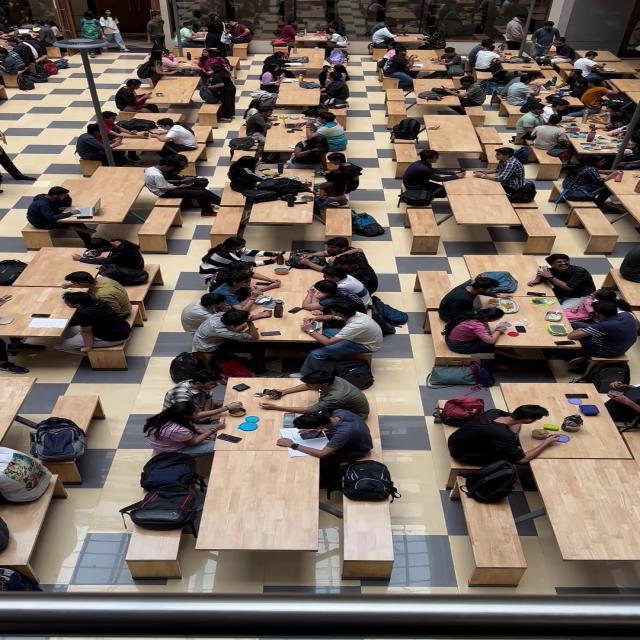Occupied: (198, 269, 368, 355), (500, 383, 640, 457), (461, 295, 603, 357), (10, 253, 158, 305), (447, 406, 557, 469), (278, 407, 377, 474), (208, 388, 302, 452), (37, 171, 148, 225), (294, 303, 384, 368), (261, 369, 371, 418), (54, 293, 133, 353), (143, 401, 227, 457), (143, 158, 220, 215), (565, 302, 638, 359), (162, 372, 244, 422), (192, 308, 270, 354), (562, 155, 626, 208), (442, 308, 512, 356), (438, 276, 504, 325), (199, 243, 283, 281), (399, 150, 460, 200), (258, 111, 330, 152), (530, 256, 596, 300), (563, 129, 638, 167), (72, 243, 144, 282), (248, 186, 318, 225), (298, 240, 372, 275), (210, 271, 272, 312), (563, 287, 631, 324), (303, 273, 368, 311), (474, 147, 526, 193), (77, 112, 133, 154), (312, 152, 361, 200), (180, 293, 234, 336), (528, 117, 576, 165), (26, 187, 85, 225), (147, 117, 198, 158), (508, 100, 580, 127), (560, 82, 612, 116), (205, 66, 236, 122), (441, 76, 487, 112), (605, 384, 640, 431), (482, 58, 551, 80), (382, 47, 417, 90), (602, 268, 639, 308), (244, 106, 276, 151), (141, 52, 174, 93), (275, 80, 323, 108), (115, 82, 157, 114), (159, 157, 202, 188), (505, 74, 542, 107), (470, 43, 502, 79), (175, 56, 238, 74), (113, 133, 174, 151), (573, 50, 609, 80), (275, 169, 319, 193), (427, 48, 462, 78), (589, 104, 629, 130), (395, 51, 436, 76), (320, 73, 350, 107), (552, 69, 588, 96), (202, 14, 225, 55), (264, 52, 296, 80), (587, 61, 639, 78), (38, 21, 63, 56), (277, 51, 316, 72), (307, 101, 350, 120), (539, 93, 587, 110), (372, 22, 401, 50), (259, 64, 286, 93), (178, 22, 204, 50), (226, 19, 252, 46), (418, 26, 446, 51), (160, 50, 186, 76), (581, 138, 629, 152), (531, 79, 566, 97), (273, 20, 297, 44), (0, 52, 25, 74), (504, 48, 533, 64), (326, 49, 347, 65), (393, 35, 430, 43), (294, 32, 327, 40), (258, 169, 280, 179), (285, 122, 306, 132), (559, 122, 579, 129), (591, 64, 607, 72), (558, 117, 576, 124), (303, 116, 318, 120), (182, 61, 191, 66), (414, 58, 419, 61)
Unoccupied: (196, 452, 320, 558), (533, 459, 640, 566), (455, 481, 531, 587), (340, 486, 397, 582), (122, 507, 186, 582), (420, 116, 484, 166), (463, 255, 542, 291), (443, 193, 523, 227), (0, 377, 36, 441), (564, 202, 618, 242), (512, 207, 560, 247), (137, 210, 181, 242), (39, 397, 103, 419), (478, 128, 514, 166), (406, 211, 442, 248), (415, 270, 452, 306), (530, 143, 566, 177), (208, 204, 246, 233), (391, 141, 421, 174), (412, 78, 458, 98), (322, 212, 352, 239), (602, 88, 640, 108), (218, 184, 249, 208), (385, 99, 409, 128), (382, 85, 407, 106), (230, 148, 258, 163), (191, 127, 214, 143), (522, 98, 544, 114)
